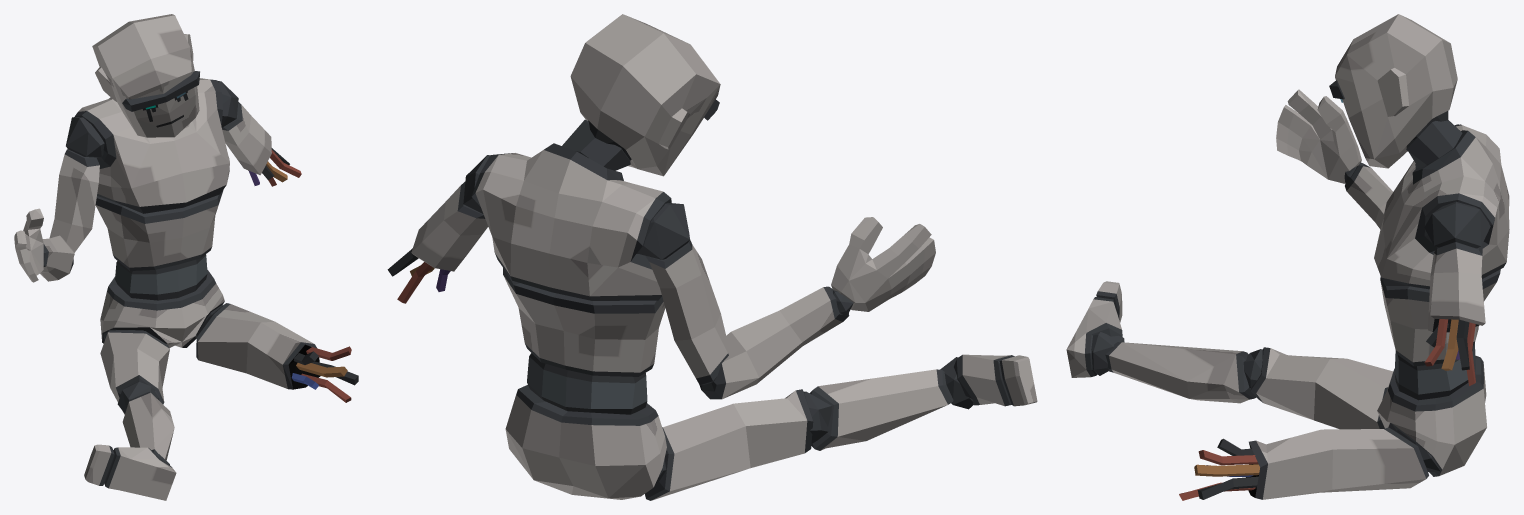
The model's file is SM_Prop_Robot_Posed_01.fbx.
3 renders of one model, left to right at view 1: azimuth 30°, elevation 25°; view 2: azimuth 150°, elevation 25°; view 3: azimuth 270°, elevation 25°, orthographic. The views are drawn at different scales.
Parts seen in each view (by area): view 1: SM_Prop_Robot_Posed_01; view 2: SM_Prop_Robot_Posed_01; view 3: SM_Prop_Robot_Posed_01.
Part boxes in pixels (x1,y1,x2,y2): SM_Prop_Robot_Posed_01: (14, 14, 358, 500); SM_Prop_Robot_Posed_01: (387, 14, 1037, 500); SM_Prop_Robot_Posed_01: (1066, 14, 1509, 500).
Size of the model in its own units: 104 by 102 by 95.07.
